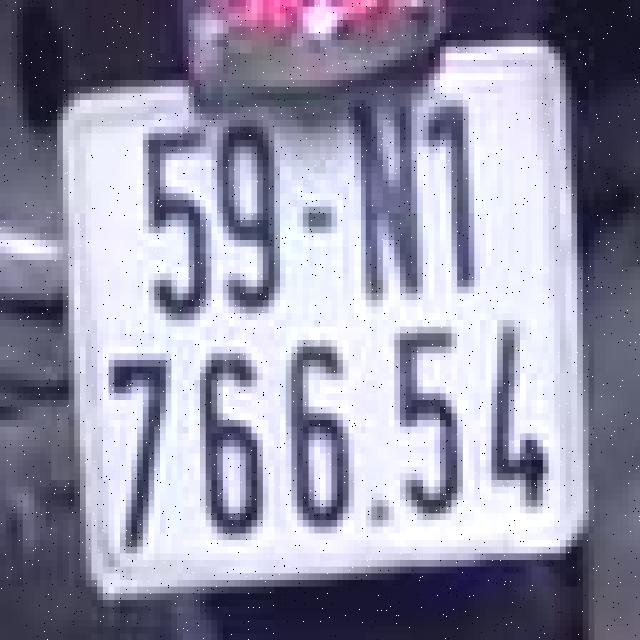1: (423, 90, 491, 303)
4: (483, 306, 557, 506)
5: (132, 120, 212, 327), (388, 327, 468, 520)
6: (286, 330, 366, 550), (197, 344, 272, 544)
7: (103, 347, 183, 560)
9: (209, 120, 294, 313)
N: (343, 90, 428, 310)
